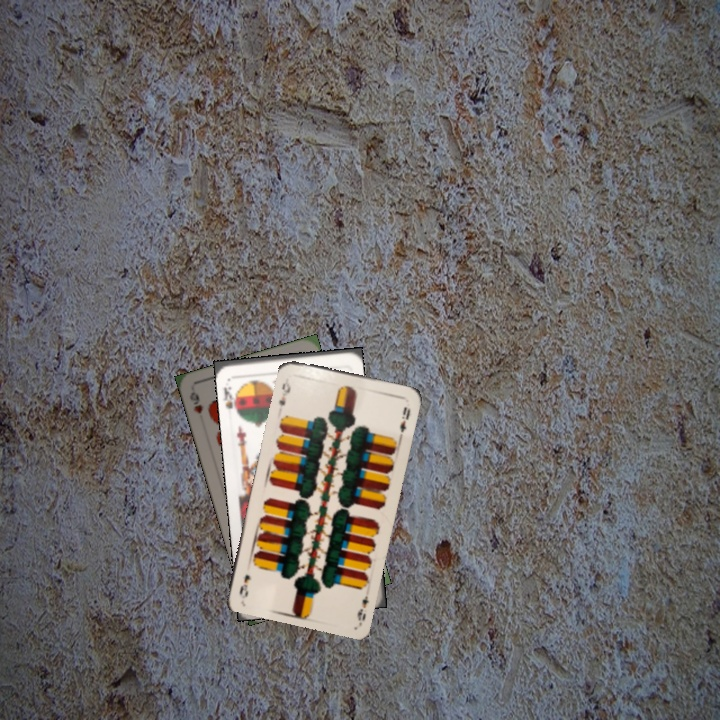E9: (275, 374, 293, 409), (353, 592, 372, 623)
H9: (186, 388, 206, 416)
SK: (220, 383, 241, 415)
